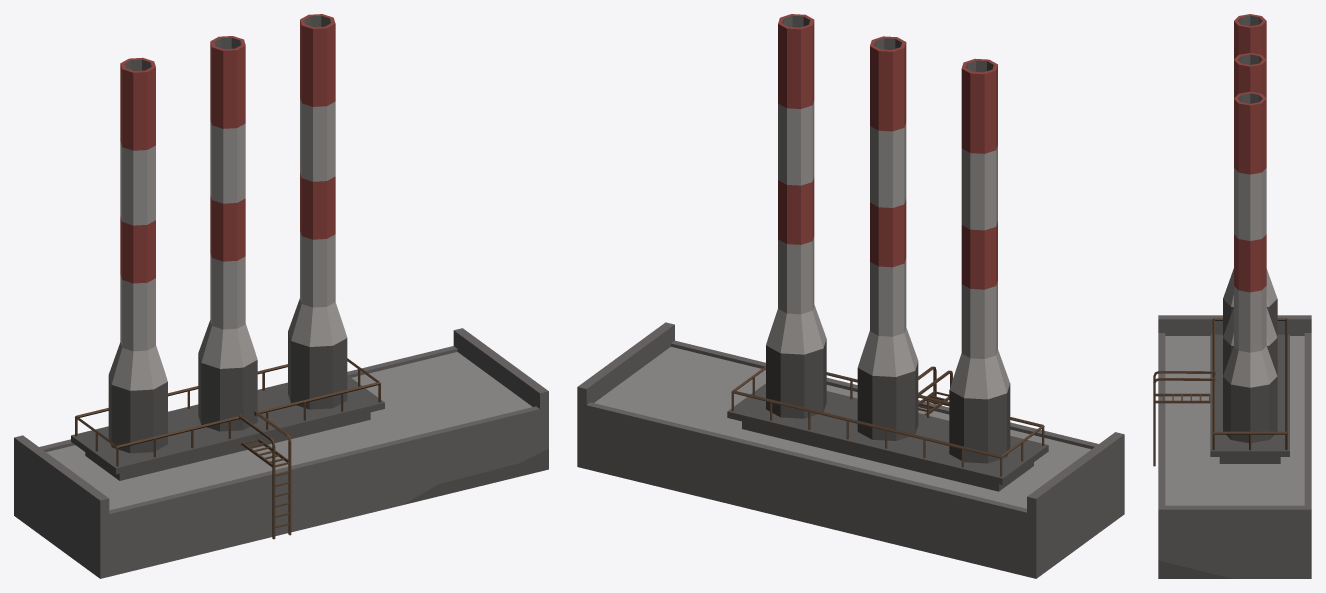
The model's file is SM_Props_Industrial_Chimney_02.fbx.
The picture shows the model from 3 angles, left to right: view 1: azimuth 30°, elevation 25°; view 2: azimuth 150°, elevation 25°; view 3: azimuth 270°, elevation 25°; orthographic projection. The views are drawn at different scales.
Parts seen in each view (by area): view 1: SM_Props_Industrial_Chimney_02; view 2: SM_Props_Industrial_Chimney_02; view 3: SM_Props_Industrial_Chimney_02.
Boxes of the visible parts, left/top/right/bottom form: SM_Props_Industrial_Chimney_02: left=14, top=14, right=548, bottom=578; SM_Props_Industrial_Chimney_02: left=577, top=14, right=1124, bottom=578; SM_Props_Industrial_Chimney_02: left=1153, top=14, right=1311, bottom=578.
Size of the model in its own units: 1500 by 1450 by 516.
